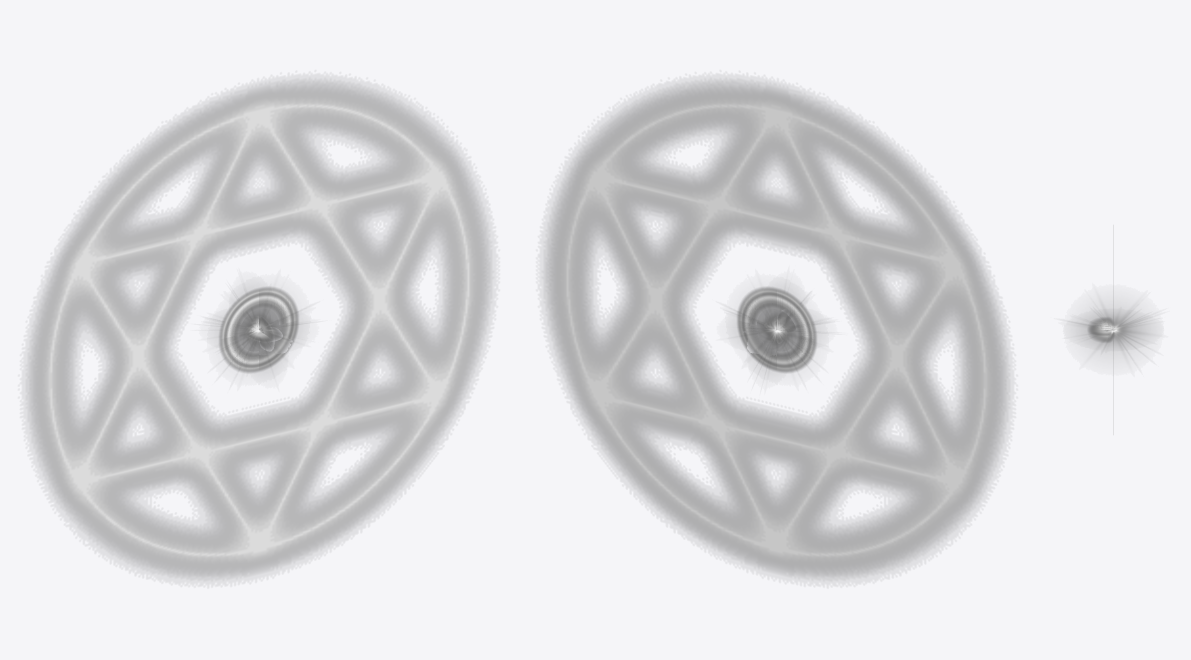
Rendered from si_eos_1300.glb.
3 renders of one model, left to right at view 1: azimuth 30°, elevation 25°; view 2: azimuth 150°, elevation 25°; view 3: azimuth 270°, elevation 25°, orthographic. The views are drawn at different scales.
Parts seen in each view (by area): view 1: layer_00_si_eos_1000, layer_03_si_est_0402, layer_01_si_est_0000, layer_04_si_est_0404; view 2: layer_00_si_eos_1000, layer_03_si_est_0402, layer_01_si_est_0000, layer_04_si_est_0404; view 3: layer_01_si_est_0000, layer_02_si_est_0103.
Boxes of the visible parts, x1,y1,x2,y2 form: layer_00_si_eos_1000: (26,78,493,580); layer_03_si_est_0402: (223,291,294,368); layer_01_si_est_0000: (213,288,307,371); layer_04_si_est_0404: (219,287,298,372); layer_00_si_eos_1000: (542,78,1009,580); layer_03_si_est_0402: (741,291,812,368); layer_01_si_est_0000: (733,285,823,374); layer_04_si_est_0404: (737,287,816,372); layer_01_si_est_0000: (1068,304,1152,357); layer_02_si_est_0103: (1088,318,1113,341).
Size of the model in its own units: 600 by 600 by 160.
Materials: 6 (6 with a texture image).
